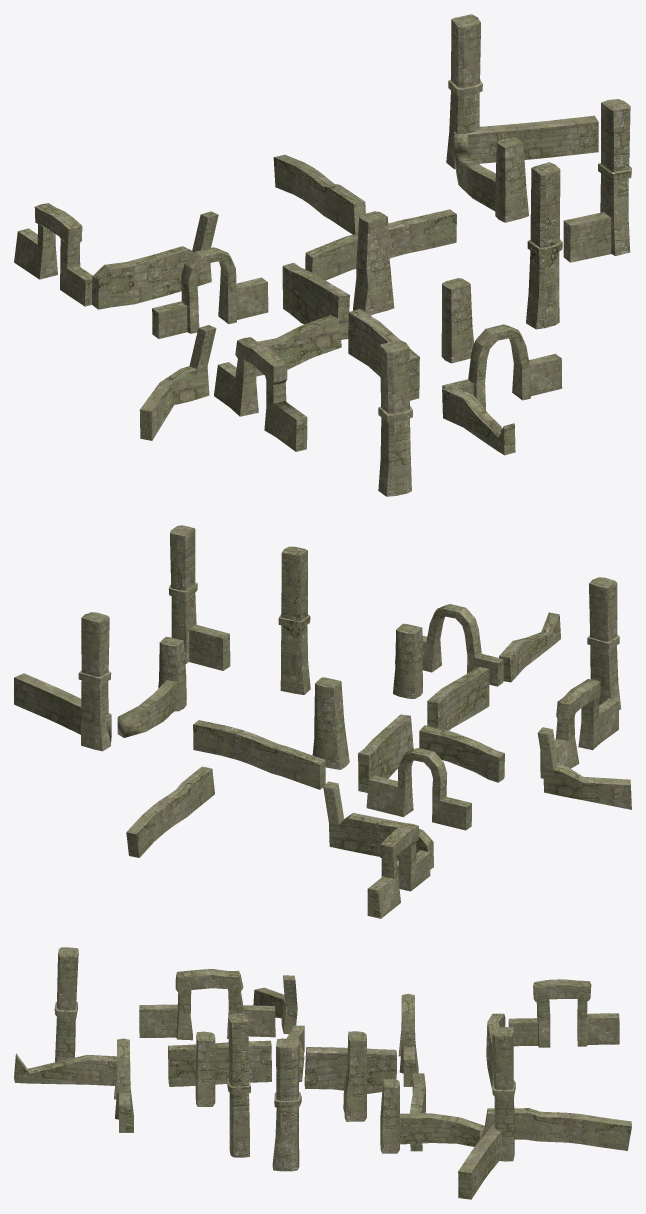
The model's file is SM_Chateaux_02_03.fbx.
3 renders of one model, top to bottom at view 1: azimuth 30°, elevation 25°; view 2: azimuth 150°, elevation 25°; view 3: azimuth 270°, elevation 25°, orthographic. The views are drawn at different scales.
Visible parts, largest first — view 1: SM_Chateaux_02_03; view 2: SM_Chateaux_02_03; view 3: SM_Chateaux_02_03.
Part boxes in pixels (box(x1,y1,x2,y2)): SM_Chateaux_02_03: box(14, 14, 631, 496); SM_Chateaux_02_03: box(14, 525, 631, 918); SM_Chateaux_02_03: box(14, 947, 631, 1199).
Size of the model in its own units: 4967 by 1726 by 5302.
